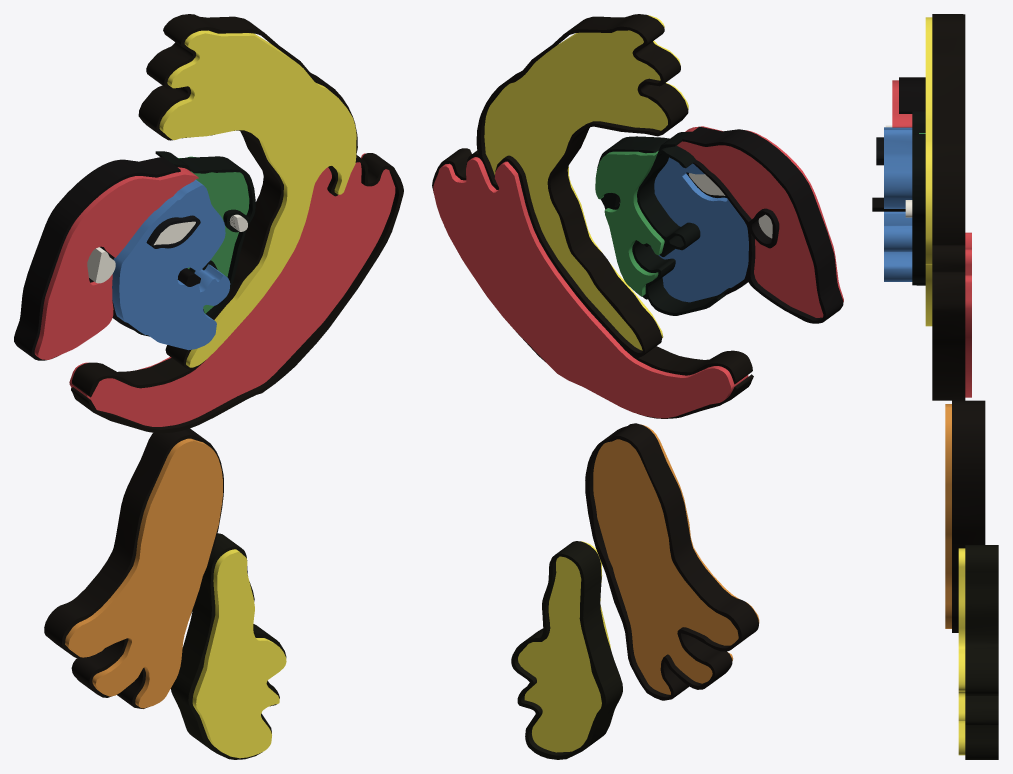
Rendered from sol.glb.
3 renders of one model, left to right at view 1: azimuth 30°, elevation 25°; view 2: azimuth 150°, elevation 25°; view 3: azimuth 270°, elevation 25°, orthographic. The views are drawn at different scales.
Parts seen in each view (by area): view 1: Shape 6, Shape 4, Shape 3, Shape 5, Shape 13, Shape 1, Shape 11, Shape 2, Shape 10, Shape 0, Shape 7, Shape 8 (+2 smaller); view 2: Shape 4, Shape 6, Shape 5, Shape 3, Shape 2, Shape 1, Shape 11, Shape 13, Shape 10, Shape 0, Shape 8, Shape 7; view 3: Shape 5, Shape 0, Shape 2, Shape 13, Shape 6, Shape 8, Shape 1, Shape 3, Shape 4, Shape 10, Shape 11, Shape 14.
Boxes of the visible parts, x1=… form: Shape 6: x1=159, y1=30, x2=356, y2=367; Shape 4: x1=69, y1=153, x2=395, y2=426; Shape 3: x1=65, y1=438, x2=222, y2=708; Shape 5: x1=71, y1=14, x2=403, y2=433; Shape 13: x1=112, y1=179, x2=230, y2=350; Shape 1: x1=192, y1=549, x2=286, y2=758; Shape 11: x1=34, y1=167, x2=198, y2=359; Shape 2: x1=44, y1=428, x2=223, y2=708; Shape 10: x1=14, y1=156, x2=180, y2=360; Shape 0: x1=170, y1=533, x2=286, y2=759; Shape 7: x1=178, y1=156, x2=249, y2=313; Shape 8: x1=135, y1=151, x2=255, y2=336; Shape 4: x1=433, y1=157, x2=748, y2=418; Shape 6: x1=484, y1=15, x2=688, y2=350; Shape 5: x1=432, y1=14, x2=753, y2=418; Shape 3: x1=593, y1=424, x2=759, y2=694; Shape 2: x1=585, y1=423, x2=758, y2=700; Shape 1: x1=518, y1=541, x2=610, y2=752; Shape 11: x1=677, y1=126, x2=843, y2=317; Shape 13: x1=654, y1=157, x2=748, y2=302; Shape 10: x1=682, y1=126, x2=843, y2=323; Shape 0: x1=511, y1=541, x2=622, y2=759; Shape 8: x1=597, y1=131, x2=730, y2=315; Shape 7: x1=595, y1=151, x2=664, y2=296; Shape 5: x1=932, y1=14, x2=965, y2=400; Shape 0: x1=965, y1=545, x2=998, y2=759; Shape 2: x1=952, y1=400, x2=985, y2=632; Shape 13: x1=884, y1=127, x2=912, y2=281; Shape 6: x1=925, y1=17, x2=932, y2=326; Shape 8: x1=912, y1=111, x2=925, y2=285; Shape 1: x1=958, y1=548, x2=965, y2=755; Shape 3: x1=945, y1=404, x2=951, y2=628; Shape 4: x1=965, y1=232, x2=971, y2=397; Shape 10: x1=899, y1=77, x2=925, y2=113; Shape 11: x1=892, y1=80, x2=912, y2=127; Shape 14: x1=872, y1=197, x2=905, y2=211.
Bounding box in the file's own units: 4.09 × 7.62 × 1.23.
